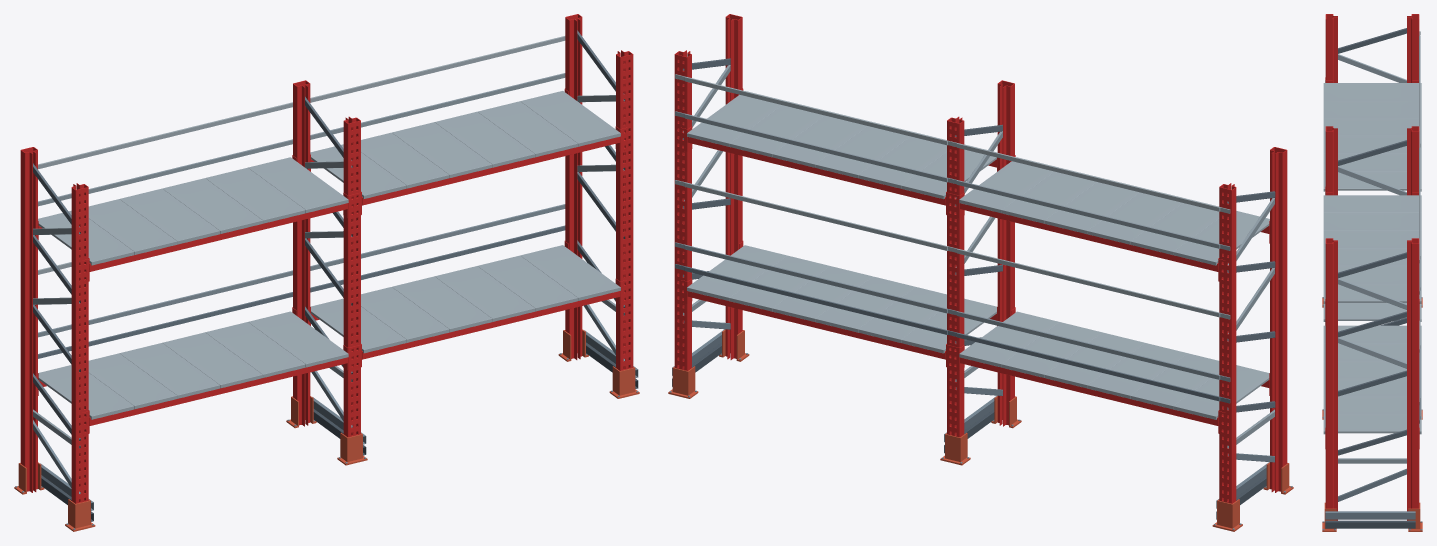
Rendered from SM_ShelfEmptyx2_Red_D.fbx.
3 views of the same model, side by side, from view 1: azimuth 30°, elevation 25°; view 2: azimuth 150°, elevation 25°; view 3: azimuth 270°, elevation 25° (orthographic). The views are drawn at different scales.
Visible parts, largest first — view 1: SM_ShelfEmptyx2_Red_D; view 2: SM_ShelfEmptyx2_Red_D; view 3: SM_ShelfEmptyx2_Red_D.
Part boxes in pixels (x1,y1,x2,y2): SM_ShelfEmptyx2_Red_D: (14,14,639,531); SM_ShelfEmptyx2_Red_D: (668,14,1293,531); SM_ShelfEmptyx2_Red_D: (1322,14,1422,531).
Bounding box in the file's own units: 647 × 370 × 118.
